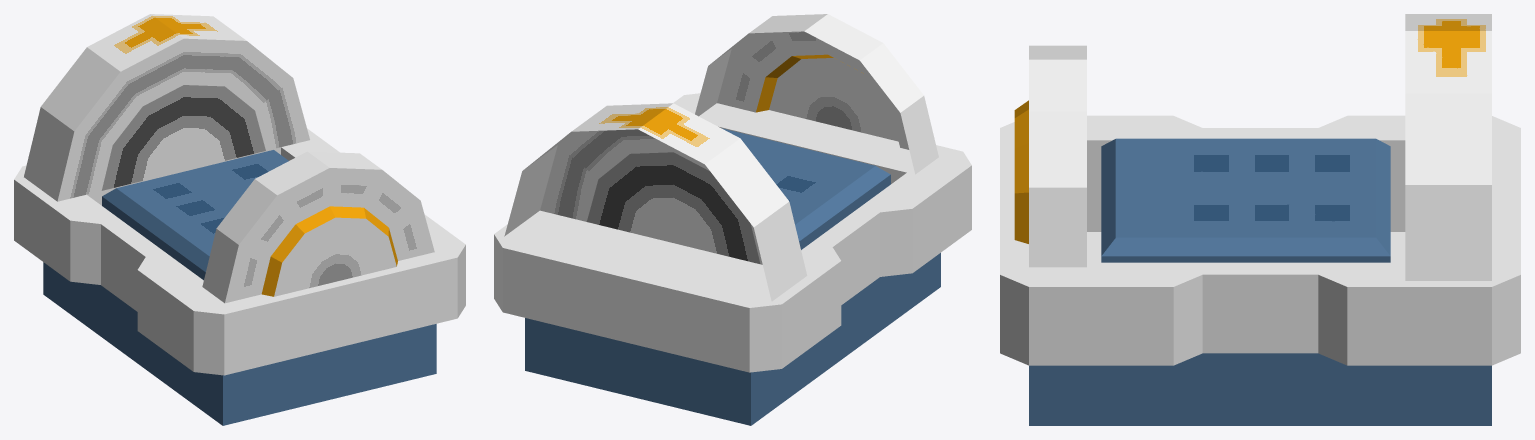
File: modelo.obj
3 renders of one model, left to right at view 1: azimuth 30°, elevation 25°; view 2: azimuth 150°, elevation 25°; view 3: azimuth 270°, elevation 25°, orthographic. The views are drawn at different scales.
Parts seen in each view (by area): view 1: polygon0; view 2: polygon0; view 3: polygon0.
Part boxes in pixels (x1,y1,x2,y2): polygon0: (14,14,465,425); polygon0: (494,14,971,425); polygon0: (1000,14,1520,425).
Bounding box in the file's own units: 28 × 25 × 36.
1 material, 1 textured.
